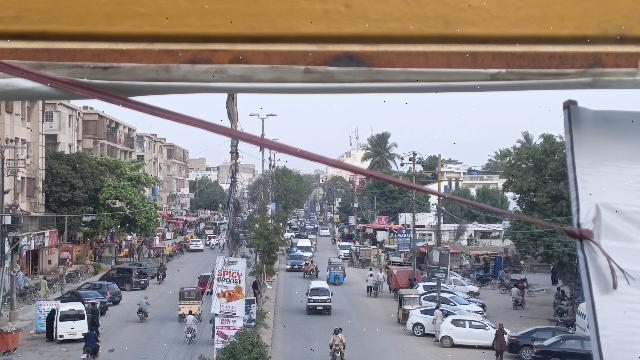Bike: (510, 295, 527, 311), (330, 343, 345, 360), (185, 325, 196, 348), (80, 344, 95, 360), (138, 308, 148, 326), (156, 271, 166, 287), (372, 277, 380, 297)
Car: (440, 313, 509, 349), (506, 324, 555, 358), (529, 334, 592, 360), (54, 286, 110, 314), (406, 307, 455, 337), (99, 265, 150, 291), (78, 280, 121, 305), (196, 272, 216, 295), (285, 252, 306, 273), (36, 276, 50, 301)
Cart: (302, 259, 320, 278)
Person: (491, 321, 507, 360), (43, 307, 57, 342), (88, 302, 102, 336), (431, 305, 442, 341), (83, 327, 100, 349), (329, 326, 345, 347), (182, 310, 198, 330), (136, 294, 150, 310), (366, 273, 375, 297), (377, 267, 385, 293), (155, 260, 168, 275), (509, 283, 522, 298), (308, 259, 317, 269)
Rickshaw: (177, 285, 205, 322), (394, 288, 420, 323), (326, 256, 347, 285)
Van: (54, 301, 89, 343), (304, 280, 334, 315)
